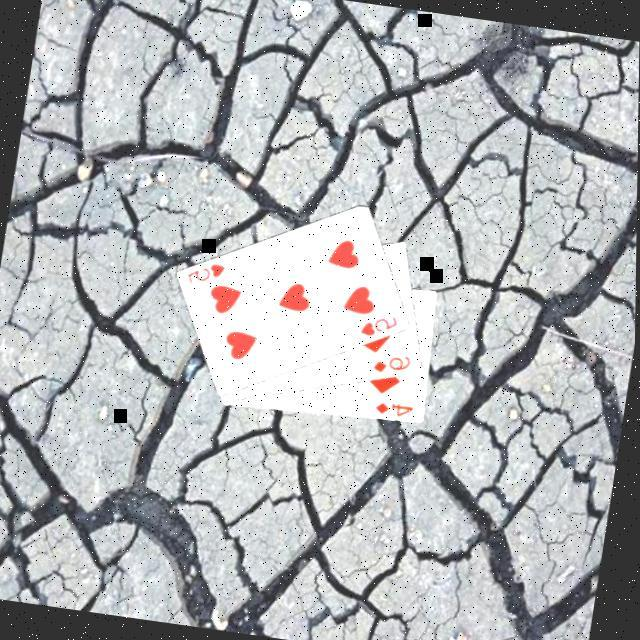4D: (375, 397, 421, 421)
5H: (359, 307, 405, 342), (186, 256, 232, 291)
6D: (373, 348, 418, 380)
